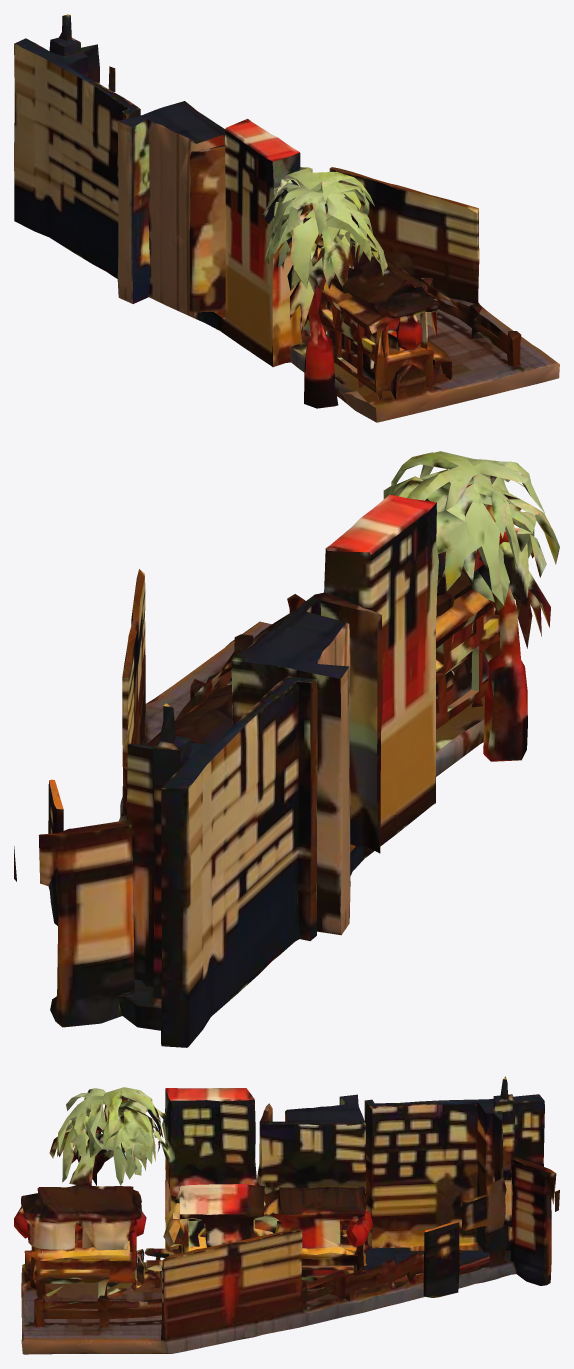
File: nakasu-yatai.glb
The picture shows the model from 3 angles, top to bottom: view 1: azimuth 30°, elevation 25°; view 2: azimuth 150°, elevation 25°; view 3: azimuth 270°, elevation 25°; orthographic projection. The views are drawn at different scales.
Visible parts, largest first — view 1: logan-textured.obj; view 2: logan-textured.obj; view 3: logan-textured.obj.
Part boxes in pixels (bbox=[...]): logan-textured.obj: bbox=[14, 14, 559, 422]; logan-textured.obj: bbox=[14, 451, 559, 1047]; logan-textured.obj: bbox=[14, 1076, 559, 1354].
Bounding box in the file's own units: 0.4596 × 0.3748 × 1.
Materials: 1 (1 with a texture image).
